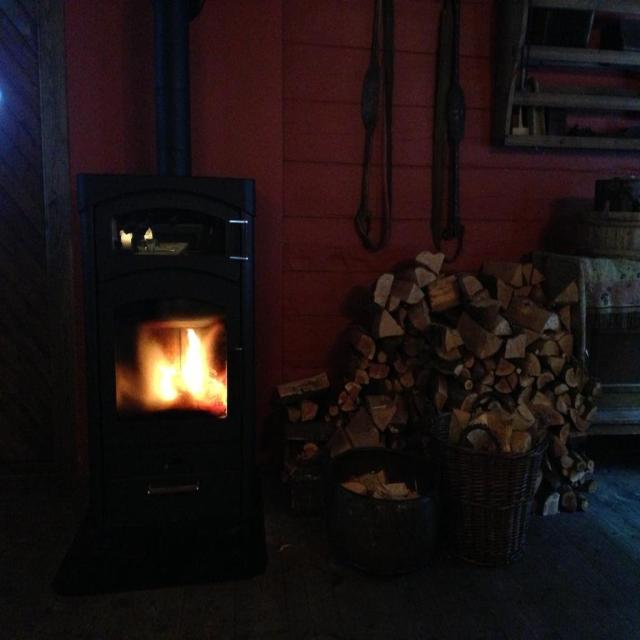Fire: (111, 308, 231, 421)
